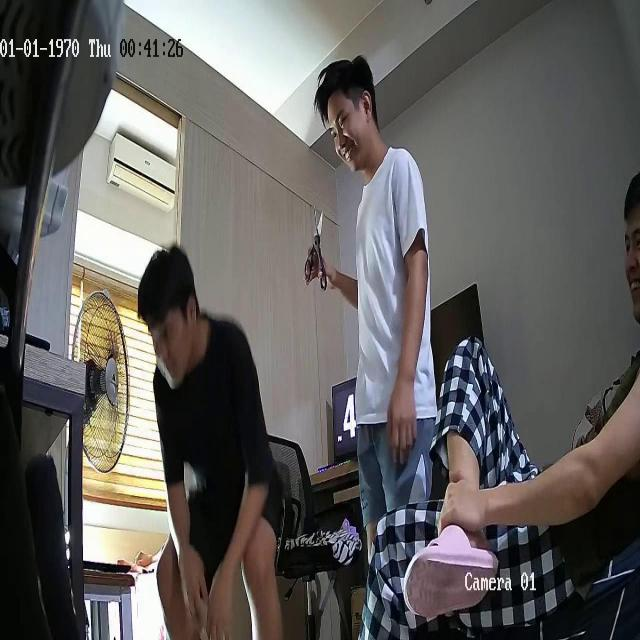scissor: (304, 207, 326, 290)
